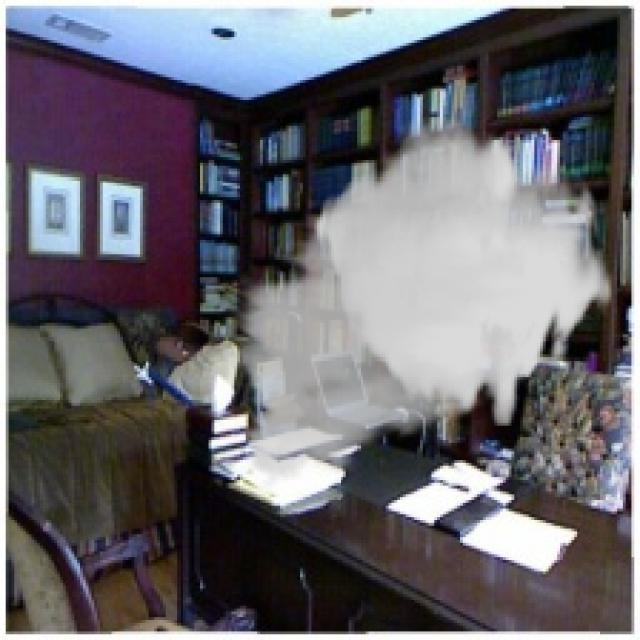Smoke: (222, 117, 614, 497)
